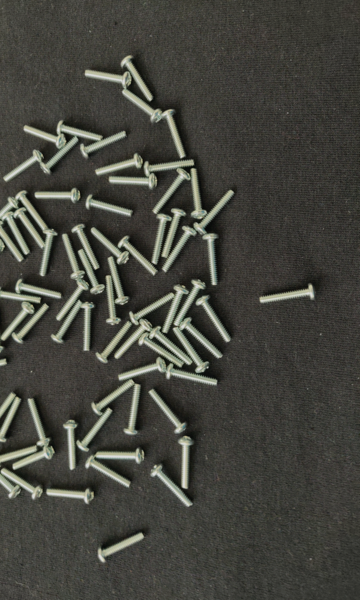longscrew: (149, 463, 194, 509), (147, 387, 189, 436), (150, 167, 192, 216), (194, 188, 235, 237), (180, 317, 225, 360), (171, 326, 210, 374), (83, 454, 133, 491), (195, 294, 232, 344), (161, 226, 198, 276), (117, 235, 159, 278), (148, 326, 193, 366), (137, 333, 186, 369), (76, 407, 113, 454), (119, 55, 155, 103), (113, 318, 153, 361), (91, 379, 137, 416), (97, 531, 147, 565), (173, 278, 207, 328), (89, 226, 130, 266), (40, 136, 80, 177), (12, 302, 50, 345), (121, 88, 165, 125), (96, 320, 132, 365), (50, 299, 84, 346), (129, 292, 176, 326), (15, 190, 51, 234), (78, 130, 129, 161), (161, 283, 190, 335), (160, 108, 189, 160), (55, 279, 90, 322), (2, 149, 45, 184), (0, 467, 44, 501), (0, 302, 36, 343), (160, 207, 188, 259), (72, 223, 102, 271), (259, 283, 320, 306), (117, 356, 168, 383), (14, 207, 46, 250), (76, 249, 105, 296), (26, 396, 52, 448), (86, 193, 136, 220), (2, 211, 31, 257), (93, 152, 144, 178), (165, 364, 220, 388), (142, 156, 196, 179), (61, 232, 86, 281), (12, 444, 57, 471), (22, 124, 67, 151), (106, 256, 130, 306), (202, 232, 223, 288), (151, 213, 173, 266), (56, 119, 104, 143), (83, 68, 134, 90), (178, 435, 198, 491), (14, 278, 64, 300), (0, 221, 25, 264), (0, 396, 22, 444), (38, 228, 59, 278), (106, 173, 161, 192), (124, 384, 143, 437), (189, 167, 208, 220), (95, 447, 147, 466), (104, 274, 122, 327), (45, 487, 95, 506), (0, 445, 38, 470), (34, 187, 83, 206), (0, 285, 43, 306), (63, 419, 80, 472), (0, 460, 22, 500), (0, 197, 21, 235), (81, 301, 96, 354), (0, 391, 18, 435), (0, 305, 6, 355), (0, 357, 10, 380), (0, 237, 7, 256)
